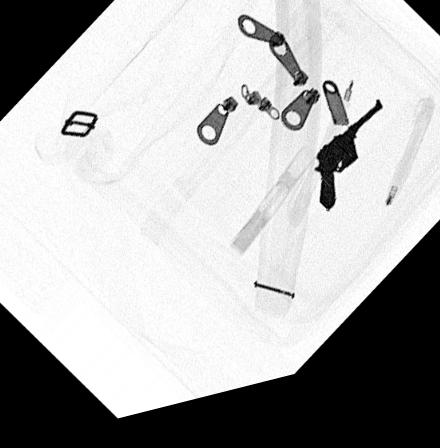Gun: (310, 117, 382, 229)
